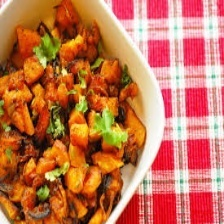sabzi: (1, 0, 147, 224)
